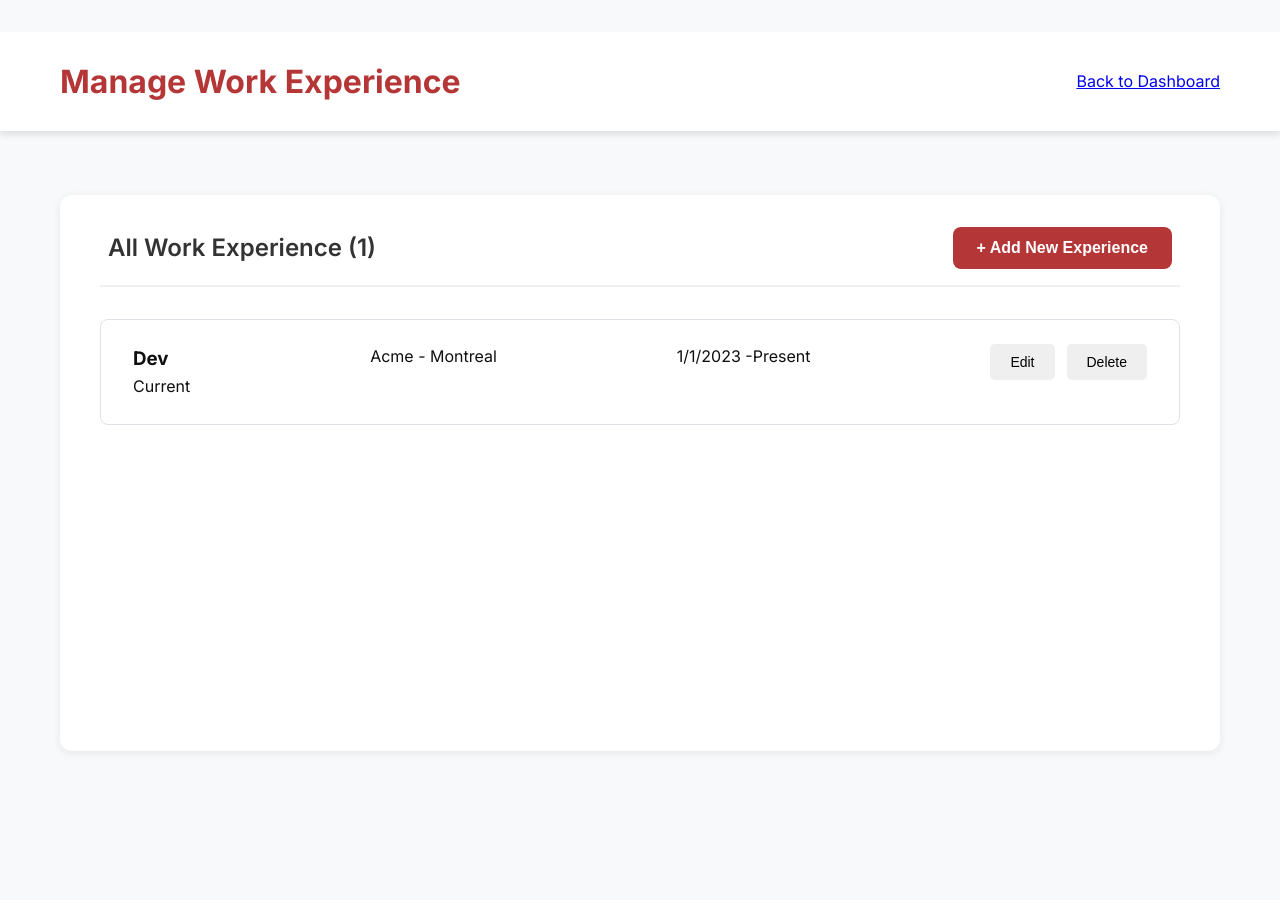
Test: AdminWorkExperience › handles delete error with message fallback
Step 1. Click the button "Delete" → (1107, 362), box [1066,344,1147,380]
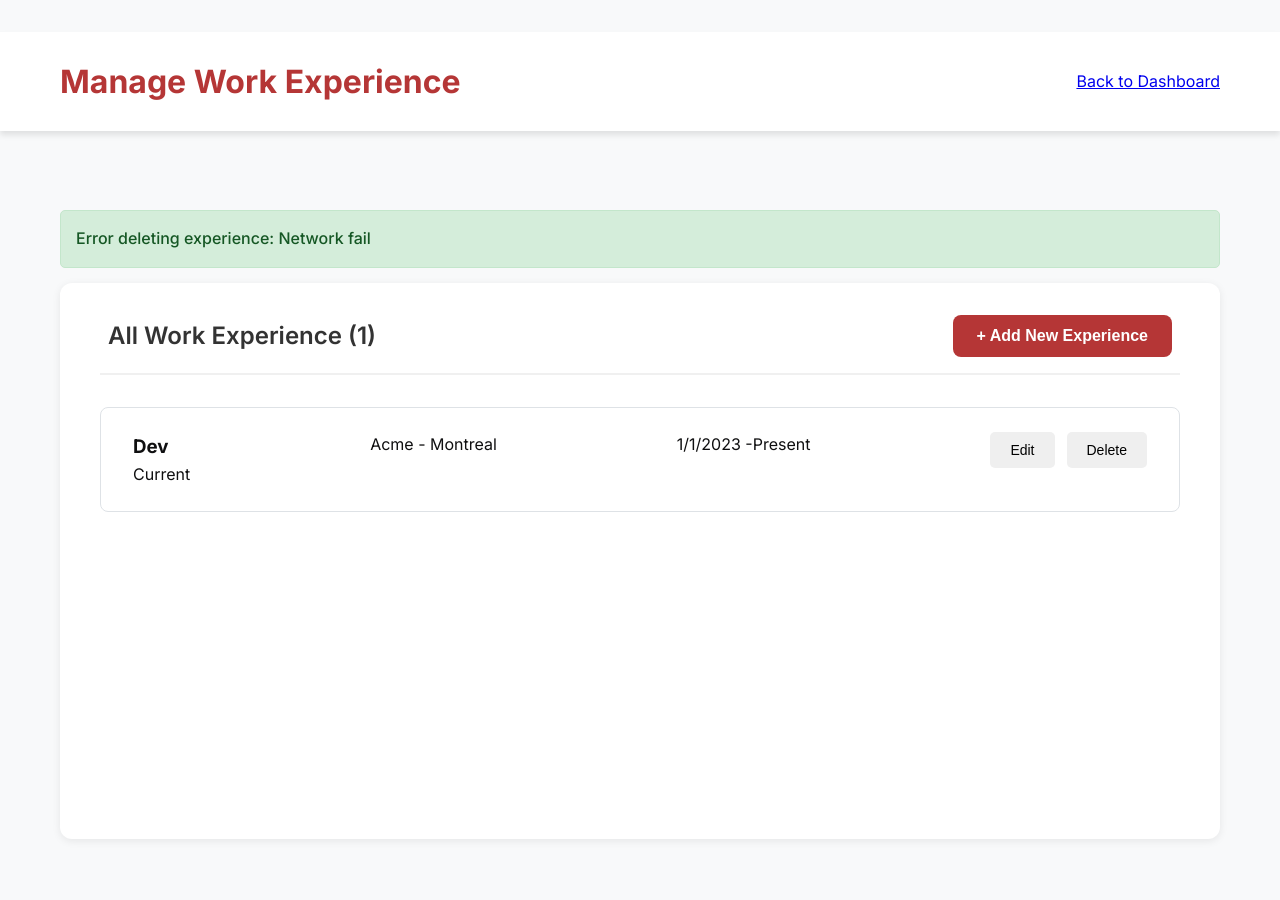
expect the text "Error deleting experience: Network fail" is shown: met, box [60,210,1220,268]
